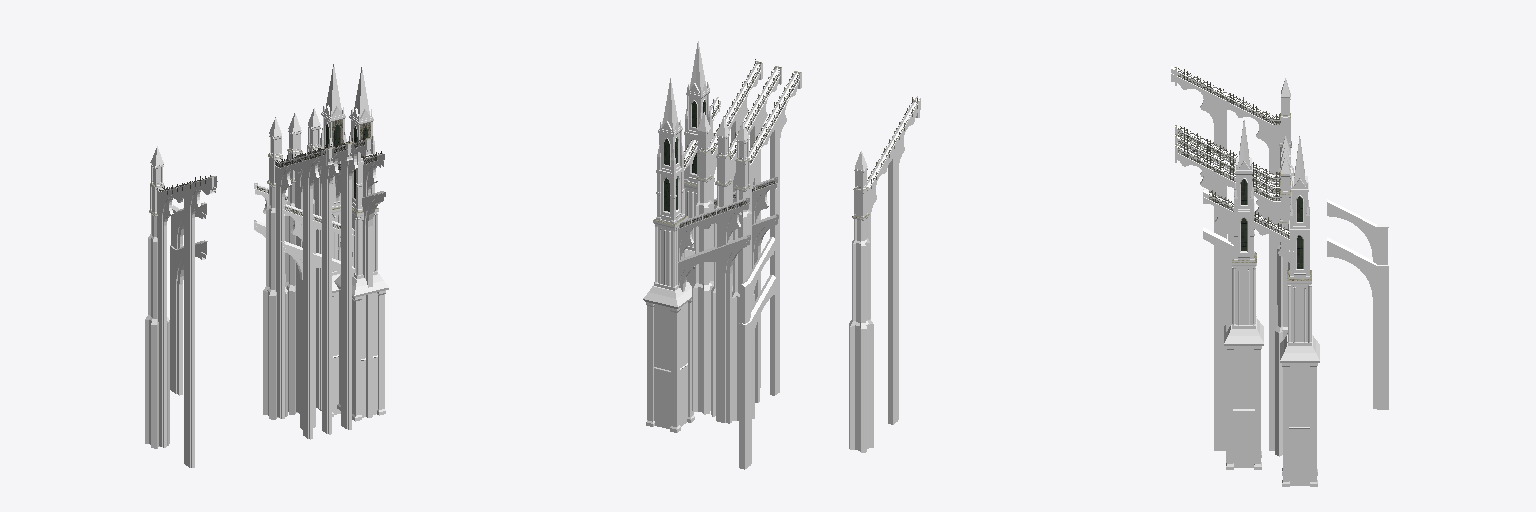
The picture shows the model from 3 angles: view 1: azimuth 30°, elevation 25°; view 2: azimuth 150°, elevation 25°; view 3: azimuth 270°, elevation 25°; orthographic projection.
Visible parts, largest first — view 1: mesh0, mesh6, mesh3, mesh1; view 2: mesh0, mesh3, mesh6, mesh17, mesh1, mesh13, mesh8, mesh9, mesh16; view 3: mesh0, mesh3, mesh6, mesh1, mesh17, mesh9, mesh11, mesh12, mesh16, mesh14, mesh8.
Boxes of the visible parts, <box> form: mesh0: <box>145,112,385,467</box>; mesh6: <box>163,148,383,467</box>; mesh3: <box>153,107,377,417</box>; mesh1: <box>150,64,388,295</box>; mesh0: <box>646,62,920,469</box>; mesh3: <box>654,84,865,428</box>; mesh6: <box>679,75,916,463</box>; mesh17: <box>678,61,919,325</box>; mesh1: <box>643,41,867,306</box>; mesh13: <box>699,152,860,239</box>; mesh8: <box>654,64,920,372</box>; mesh9: <box>653,66,920,287</box>; mesh16: <box>664,100,705,211</box>; mesh0: <box>1171,69,1388,486</box>; mesh3: <box>1233,100,1309,485</box>; mesh6: <box>1171,80,1376,462</box>; mesh1: <box>1224,78,1319,360</box>; mesh17: <box>1171,66,1388,265</box>; mesh9: <box>1172,69,1311,342</box>; mesh11: <box>1178,74,1289,238</box>; mesh12: <box>1178,68,1289,233</box>; mesh16: <box>1241,179,1302,268</box>; mesh14: <box>1184,69,1281,234</box>; mesh8: <box>1171,68,1309,428</box>.
Bounding box in the file's own units: 87.24 × 143 × 78.36.
18 materials, 6 textured.